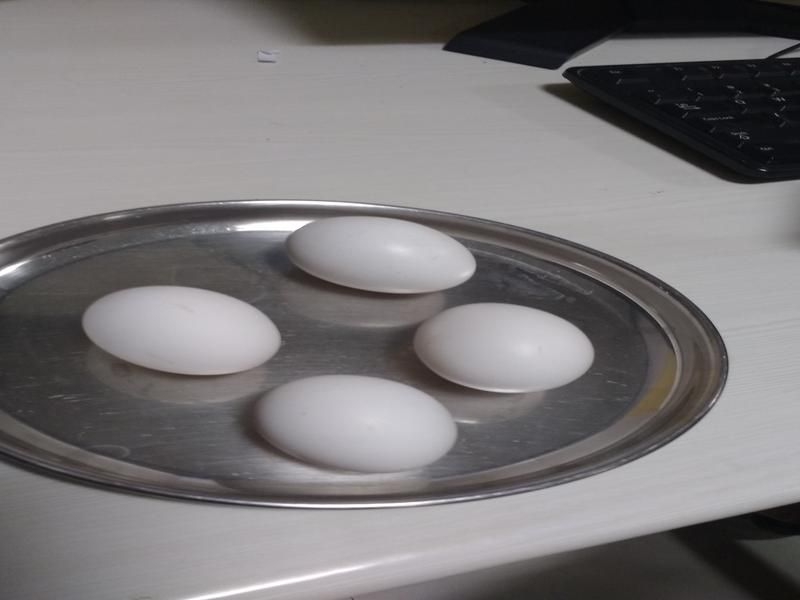egg: (260, 369, 454, 471)
